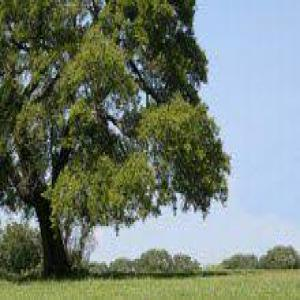Tree: (0, 0, 238, 274)
